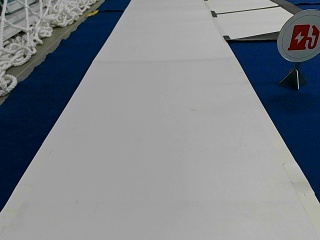battery: (277, 9, 320, 62)
